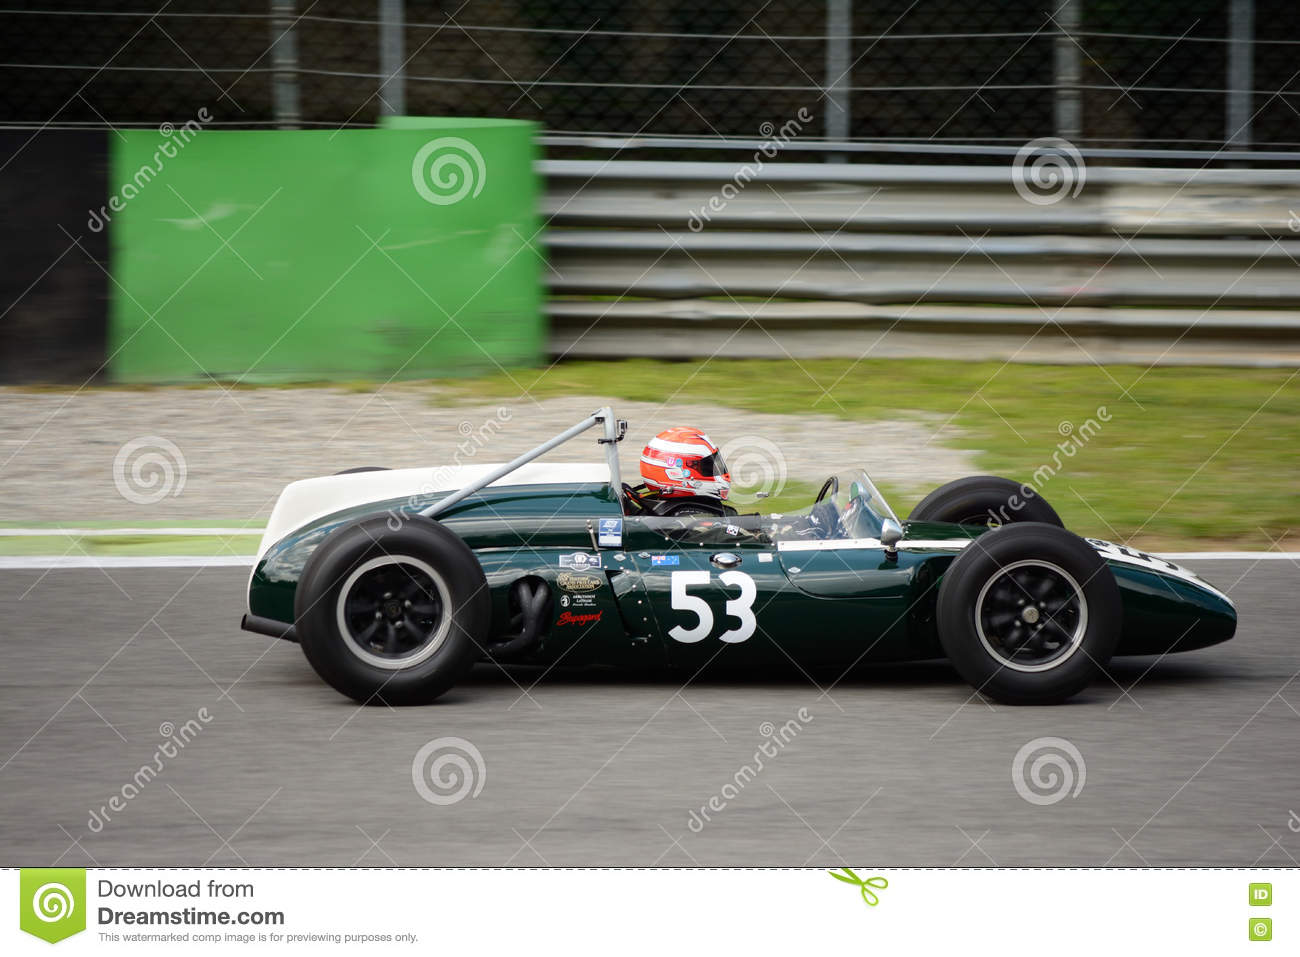f1_car: (212, 379, 1263, 728)
helmet: (627, 416, 749, 516)
